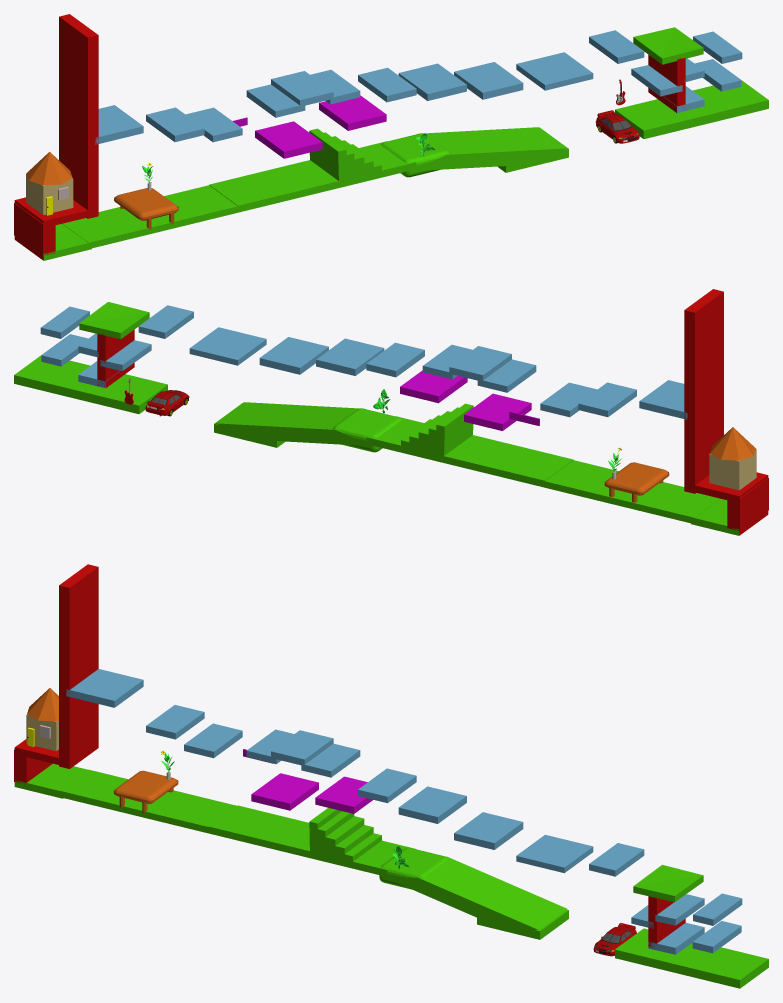
File: KDstage3.obj
The picture shows the model from 3 angles, top to bottom: view 1: azimuth 30°, elevation 25°; view 2: azimuth 150°, elevation 25°; view 3: azimuth 330°, elevation 25°; orthographic projection.
Size of the model in its own units: 2897 by 913 by 231.
